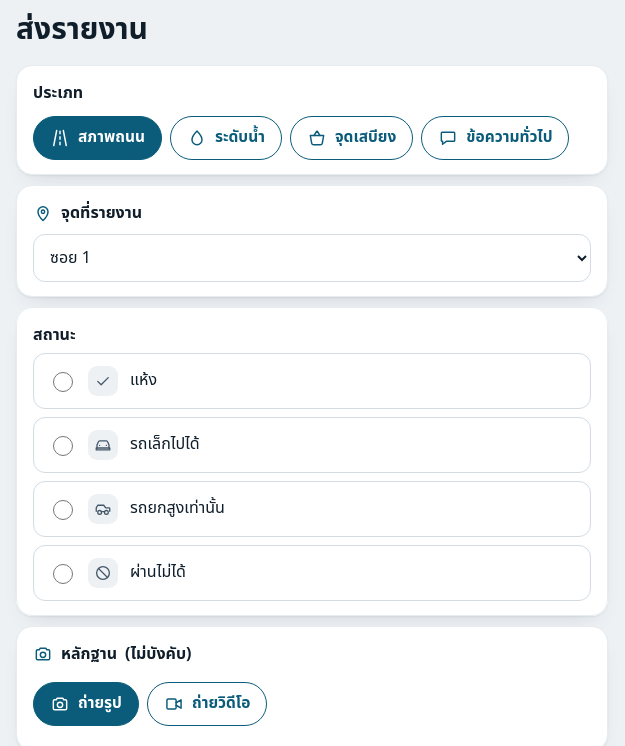
treats the report as saved when update rejects (the held item is sent later)
Click the radio button labelled "ผ่านไม่ได้": (63, 574) left=53, top=564, right=73, bottom=584
(page scrolled)
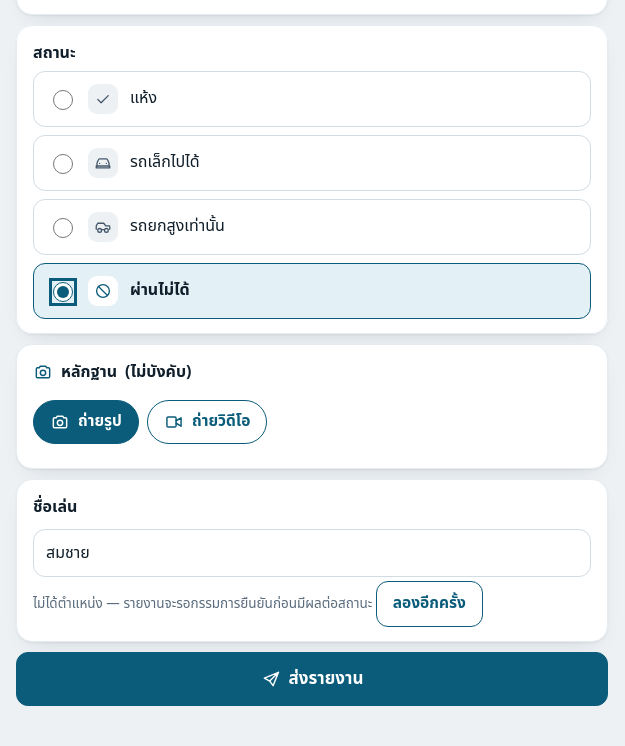
Click the button "ส่งรายงาน": (312, 679) left=16, top=652, right=608, bottom=706
(page scrolled)
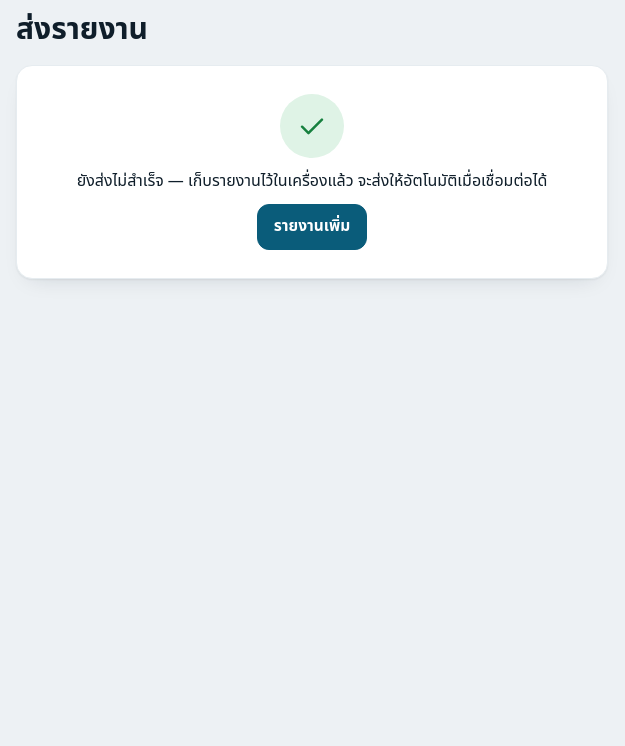
Expected: the text "เก็บรายงานไว้ในเครื่องแล้ว" is shown, left=77, top=168, right=547, bottom=192
